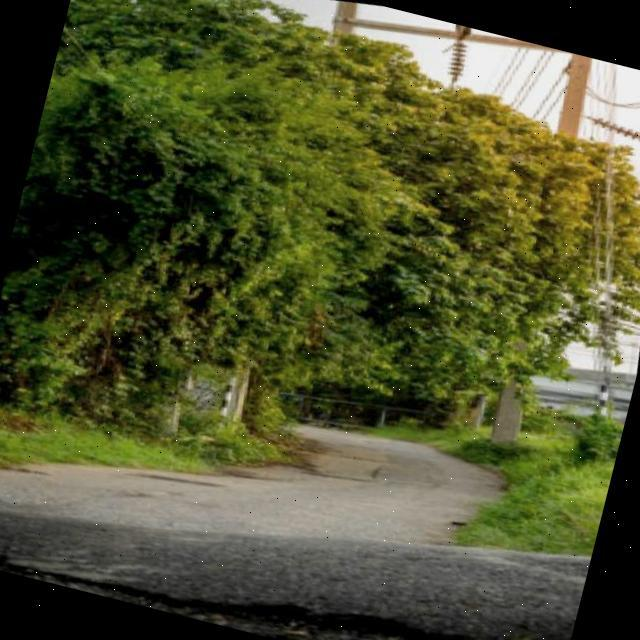critical vegetation: (431, 80, 640, 429)
